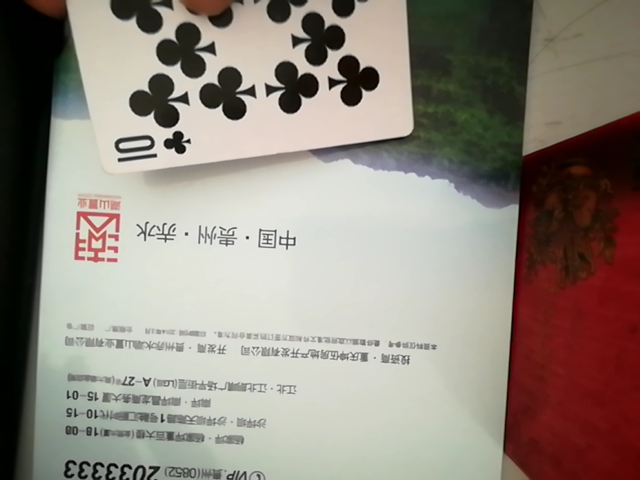mh 10: (60, 0, 418, 182)
